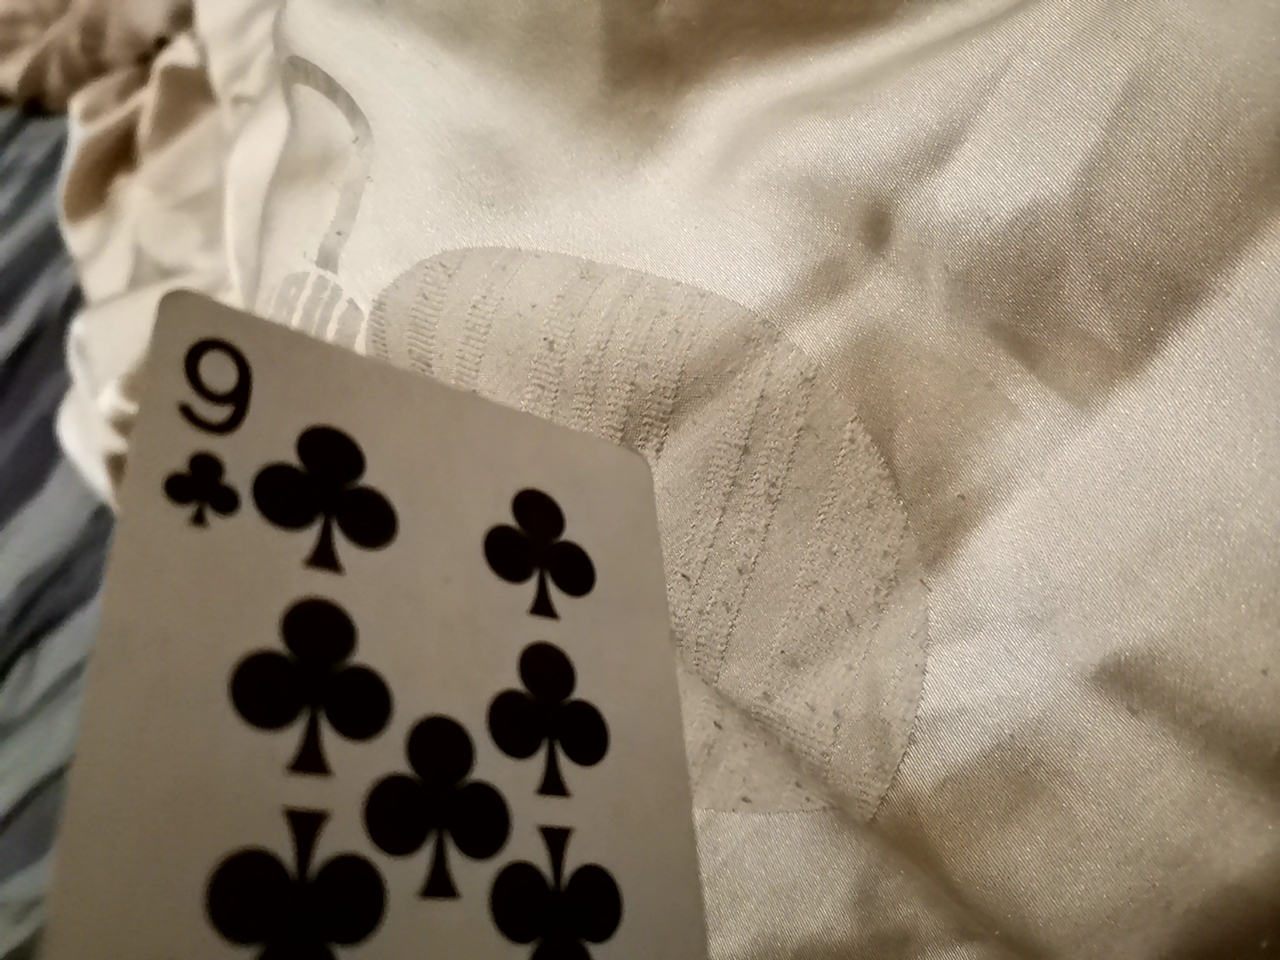mh 9: (20, 356, 699, 955)
